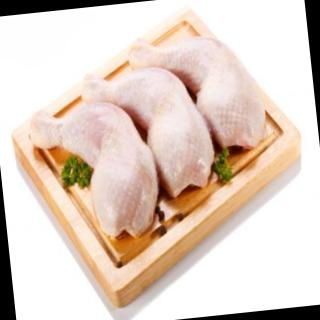Ayam: (22, 25, 277, 247), (28, 102, 164, 249), (127, 26, 272, 159), (80, 64, 218, 203)
